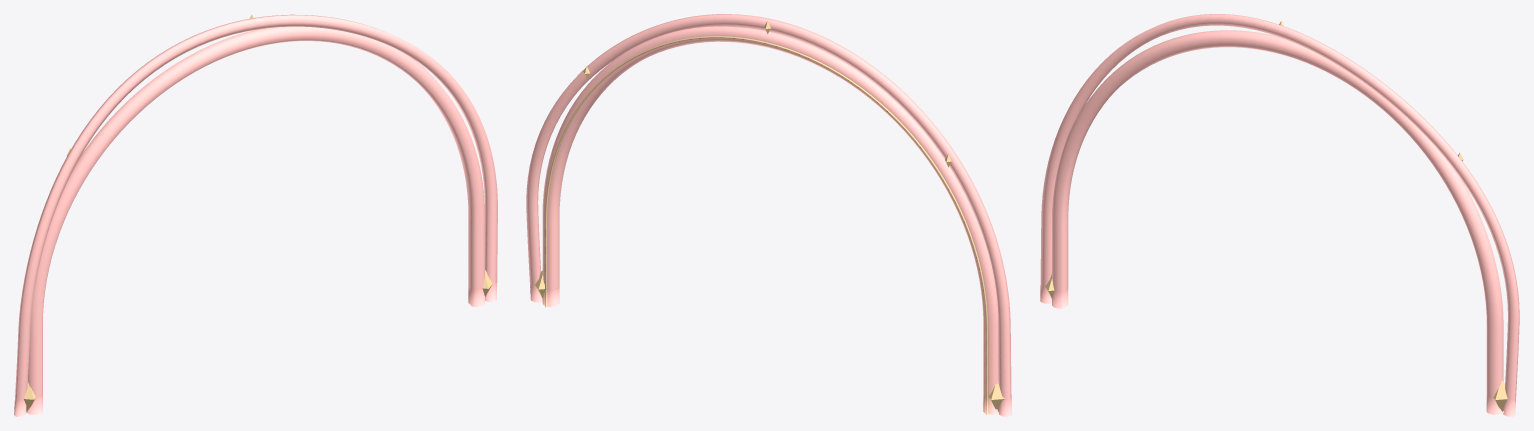
The model's file is finish-portal-lod0.glb.
3 views of the same model, side by side, from view 1: azimuth 30°, elevation 25°; view 2: azimuth 150°, elevation 25°; view 3: azimuth 330°, elevation 25° (orthographic).
Parts seen in each view (by area): view 1: finish_inner_glass; view 2: finish_inner_glass, finish_crown_seed_0; view 3: finish_inner_glass.
Part boxes in pixels (box(x1,y1,x2,y2)): finish_inner_glass: box(14, 14, 497, 416); finish_inner_glass: box(526, 14, 1011, 416); finish_crown_seed_0: box(535, 21, 1009, 414); finish_inner_glass: box(1040, 14, 1519, 416).
Bounding box in the file's own units: 16.21 × 10.92 × 0.7199.
